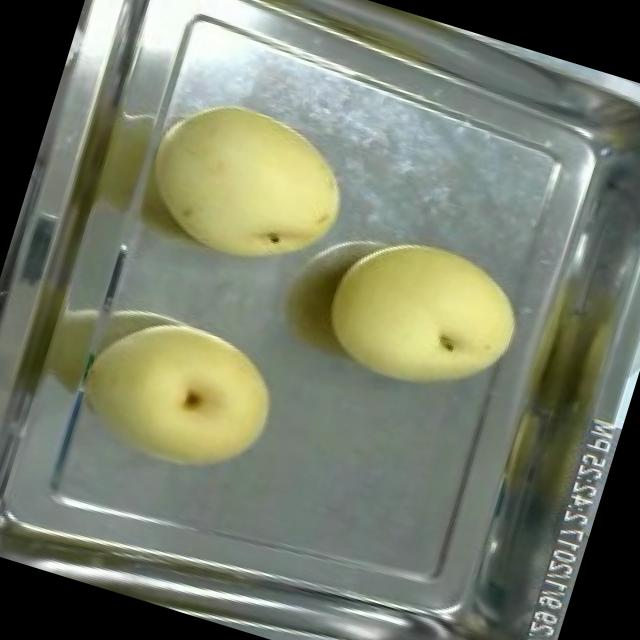Fruit: (126, 74, 372, 296), (64, 290, 299, 502), (307, 213, 540, 419)
